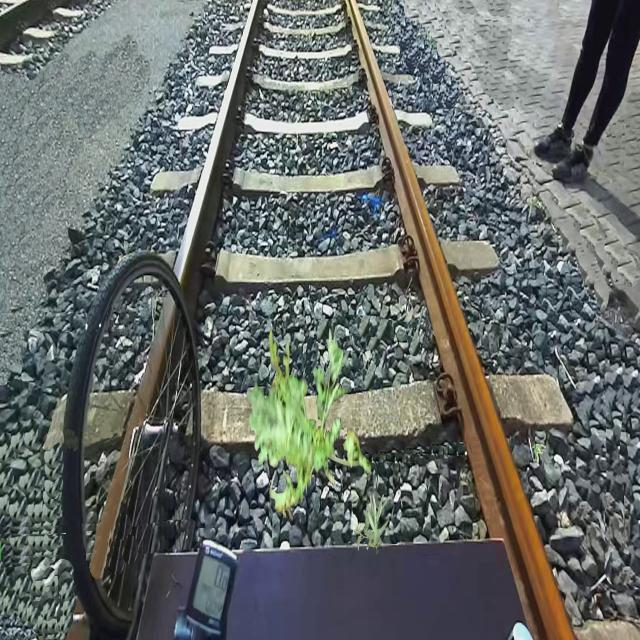Plant: (247, 325, 372, 521), (363, 492, 390, 548), (354, 513, 382, 554), (532, 443, 546, 464)
